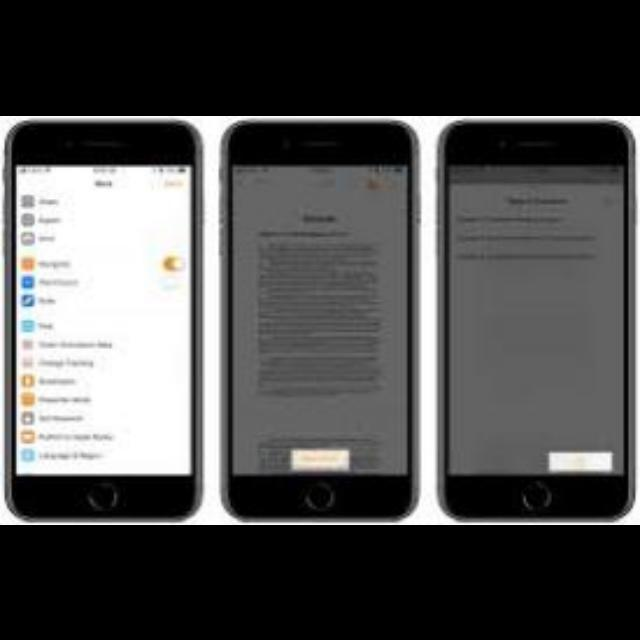Phone: (5, 121, 205, 523), (440, 116, 640, 518), (221, 117, 421, 517)
